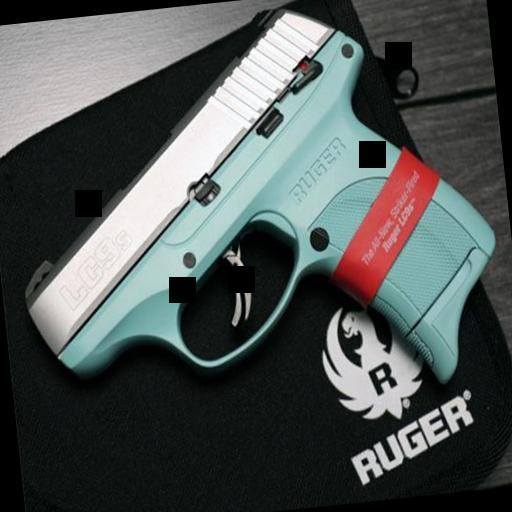Handgun: (0, 0, 503, 445)
